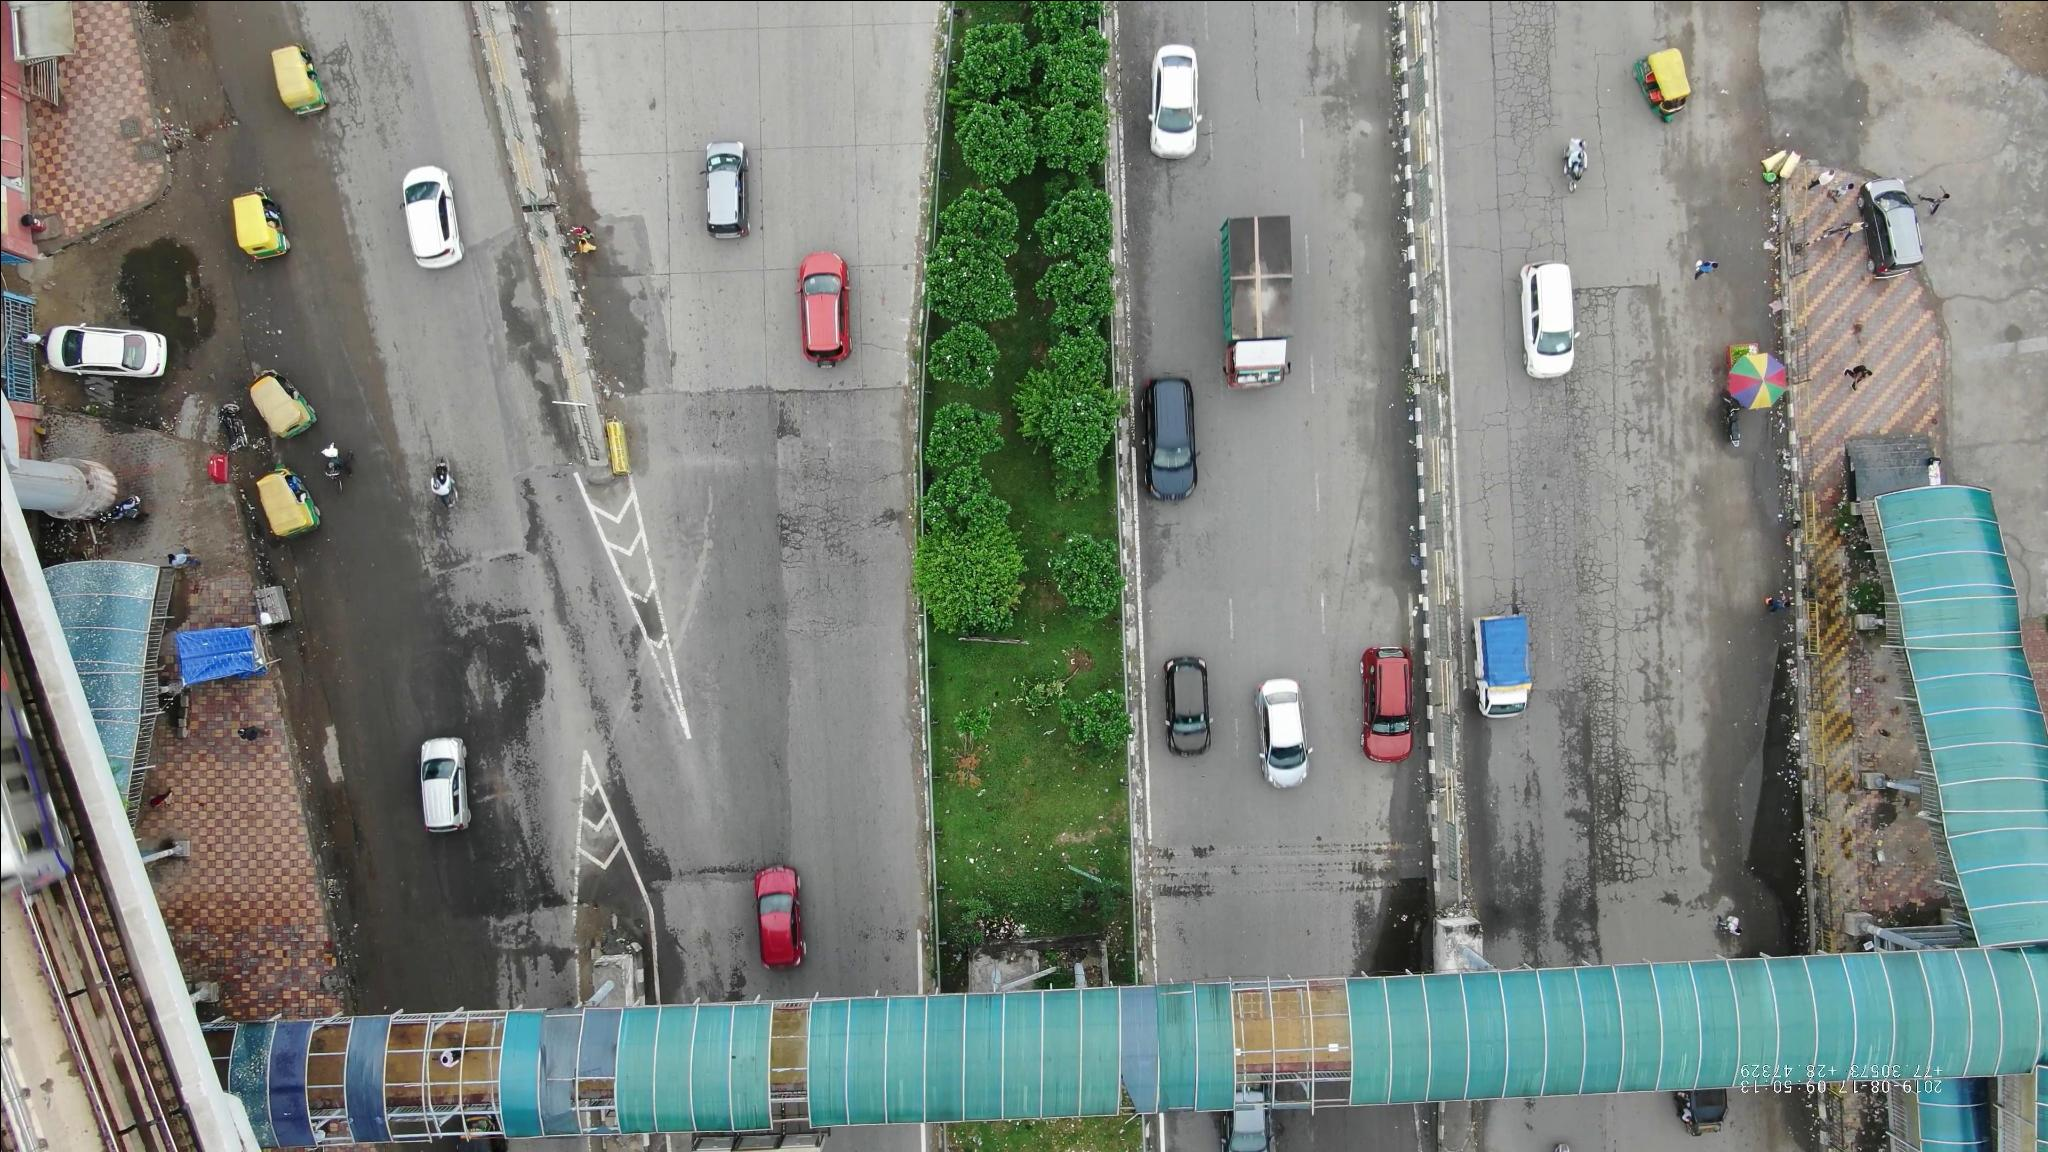Cracks: (1560, 380, 1709, 911), (755, 402, 909, 641), (1481, 6, 1573, 128), (1466, 416, 1547, 509)
